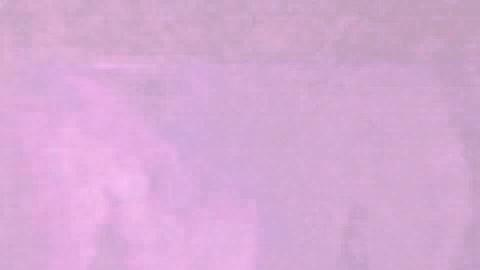tomato: (2, 134, 189, 268)
